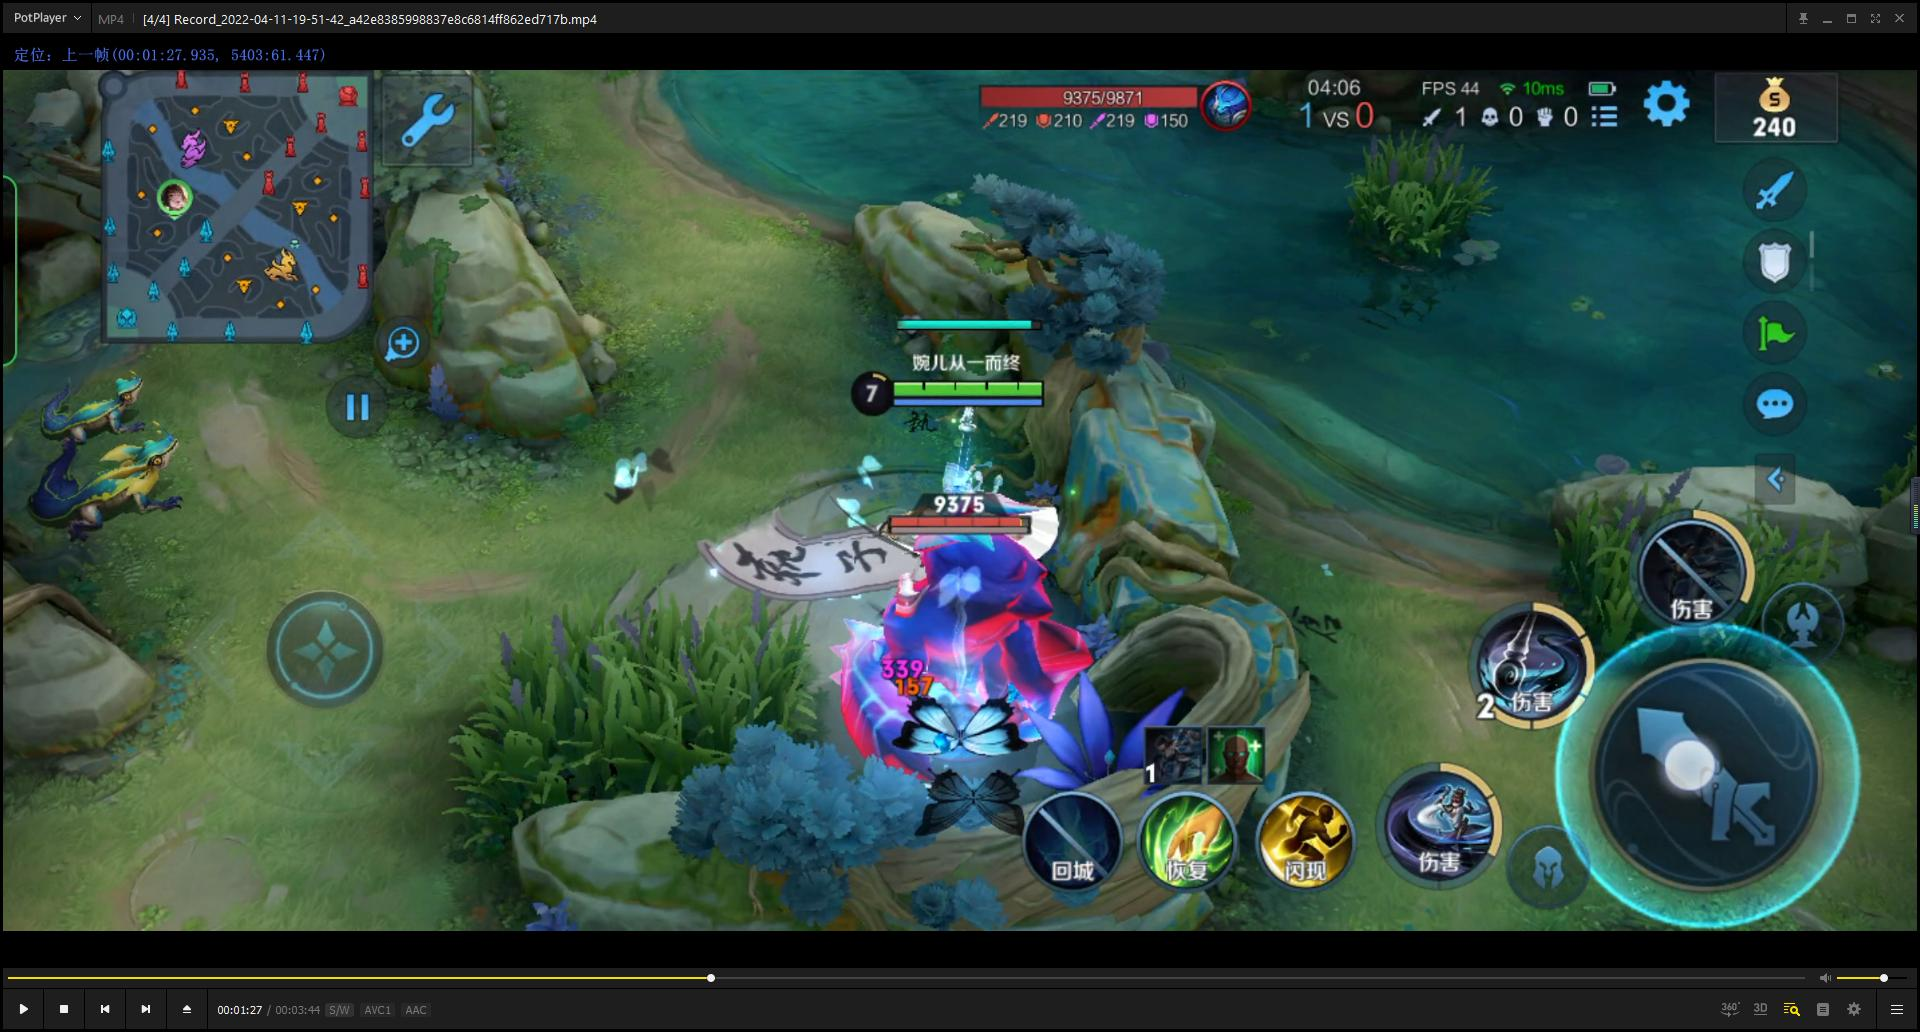Buff: (822, 513, 1119, 777)
Hero: (859, 428, 1094, 585)
Lizard: (29, 433, 208, 541), (14, 363, 156, 446)
